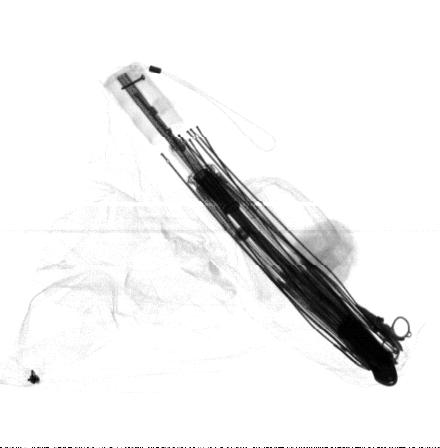Knife: (301, 257, 398, 389)
Scissors: (353, 303, 411, 366)
